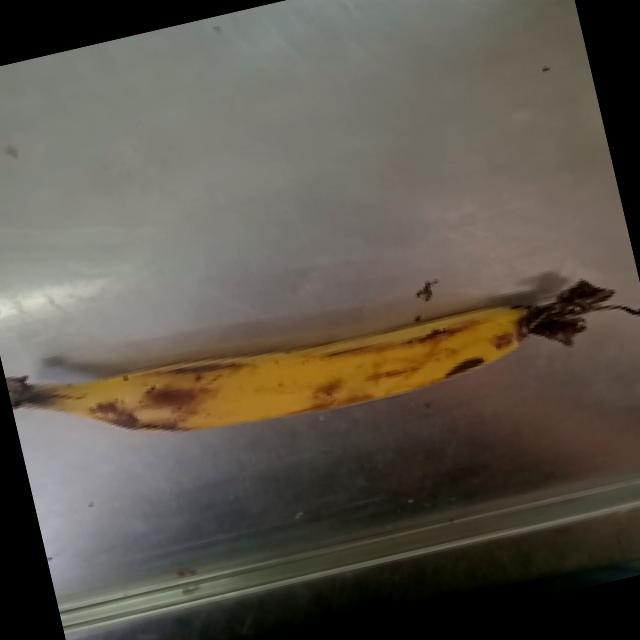Rotten_Banana: (9, 219, 640, 486)
